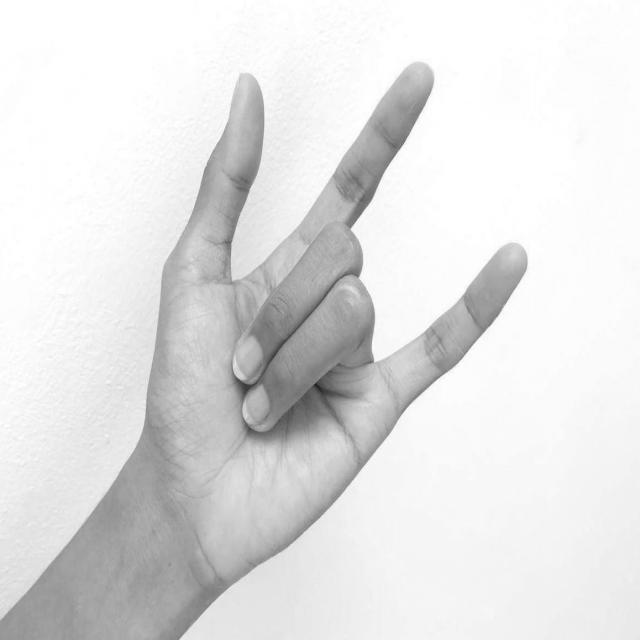i love you: (107, 49, 535, 628)
